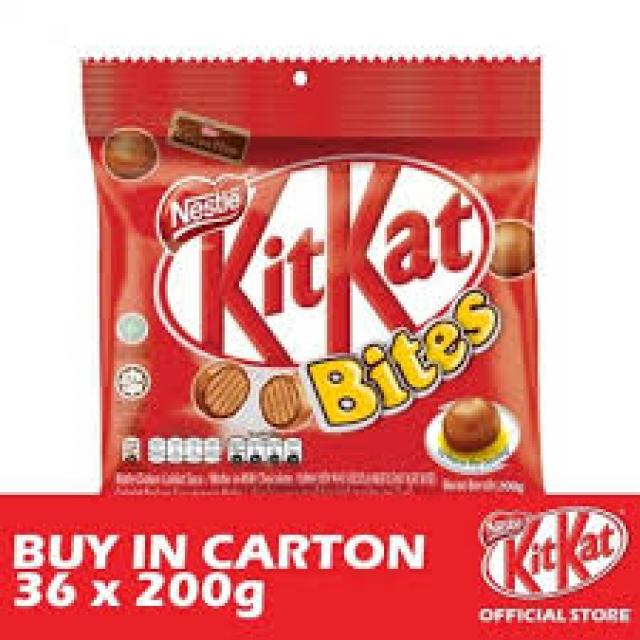kitkat: (79, 56, 546, 492)
